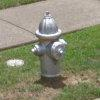Hydrant: (26, 7, 72, 84)
